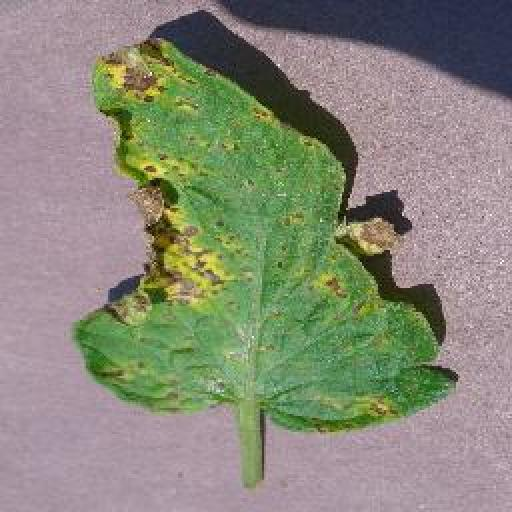Septoria: (72, 37, 459, 431)
